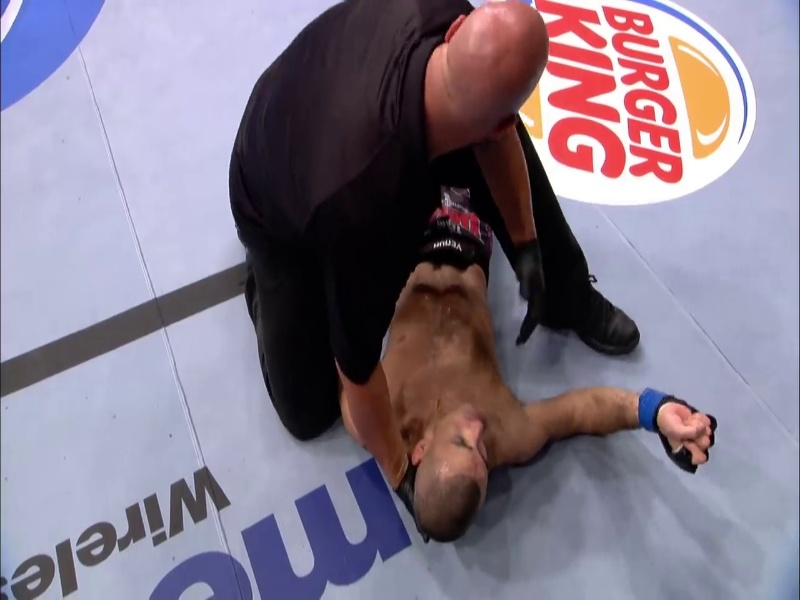fighter: (349, 182, 722, 550)
